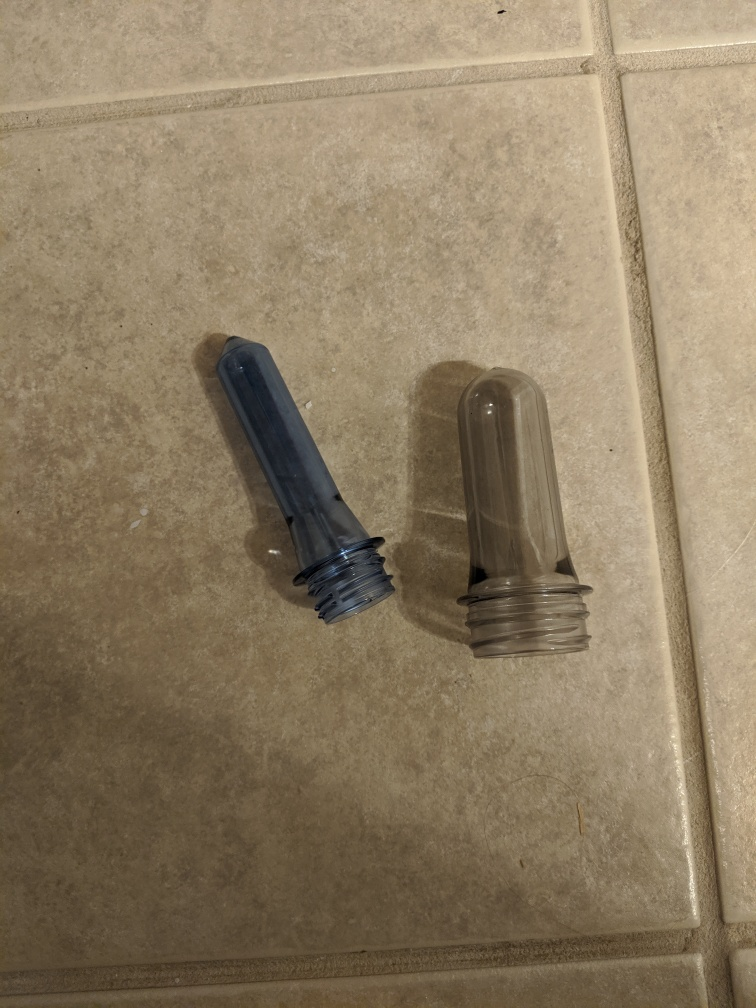preform: (213, 328, 399, 629), (450, 357, 603, 672)
